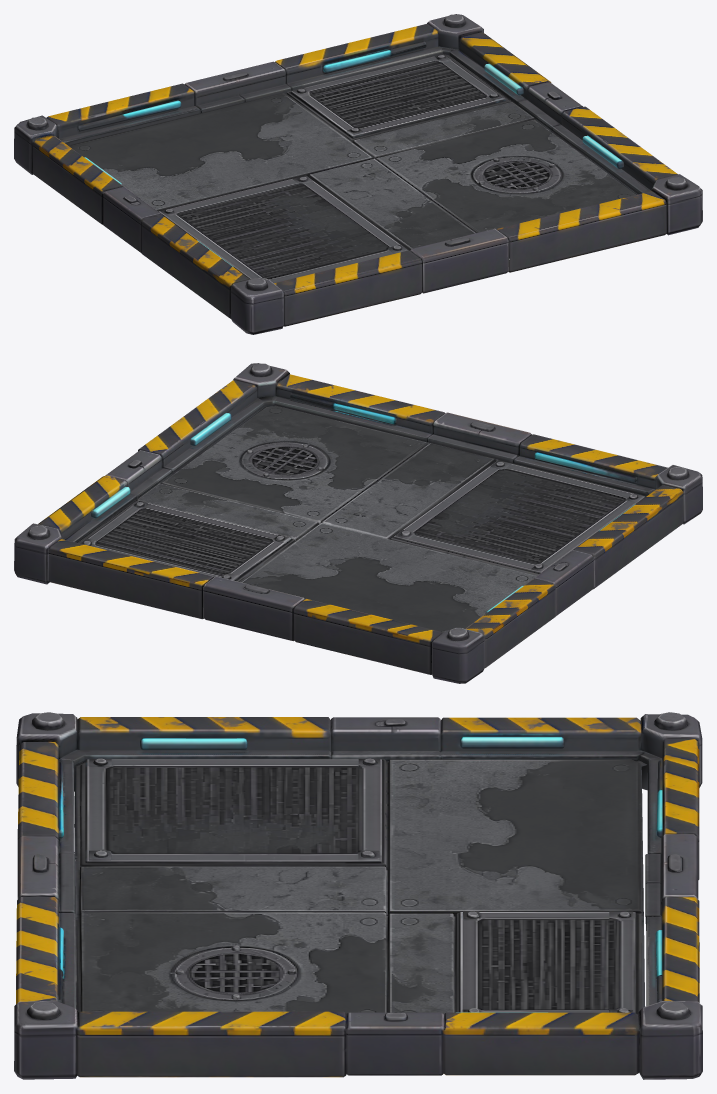
File: floor.glb
3 renders of one model, top to bottom at view 1: azimuth 30°, elevation 25°; view 2: azimuth 150°, elevation 25°; view 3: azimuth 270°, elevation 25°, orthographic. The views are drawn at different scales.
Parts seen in each view (by area): view 1: tripo_node_3dd11cd5-e9aa-4ef4-bd77-1cbbdb19c8cc; view 2: tripo_node_3dd11cd5-e9aa-4ef4-bd77-1cbbdb19c8cc; view 3: tripo_node_3dd11cd5-e9aa-4ef4-bd77-1cbbdb19c8cc.
Part boxes in pixels (left/top/right/bottom): tripo_node_3dd11cd5-e9aa-4ef4-bd77-1cbbdb19c8cc: left=14, top=14, right=702, bottom=334; tripo_node_3dd11cd5-e9aa-4ef4-bd77-1cbbdb19c8cc: left=14, top=363, right=702, bottom=683; tripo_node_3dd11cd5-e9aa-4ef4-bd77-1cbbdb19c8cc: left=14, top=712, right=702, bottom=1079.
Size of the model in its own units: 0.9995 by 0.0923 by 0.9233.
1 material, 1 textured.
